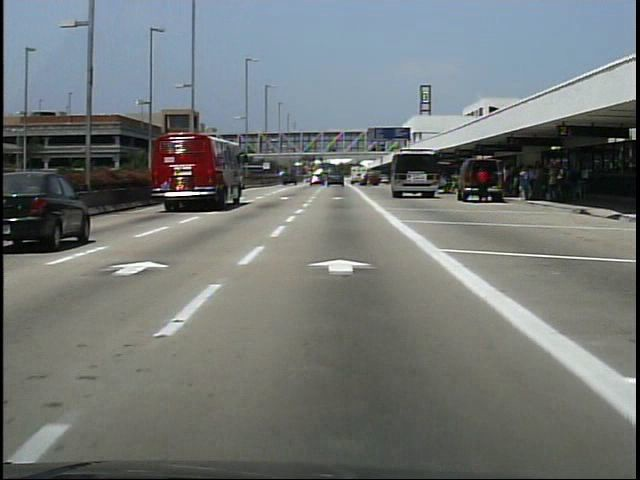person: (476, 164, 493, 205)
